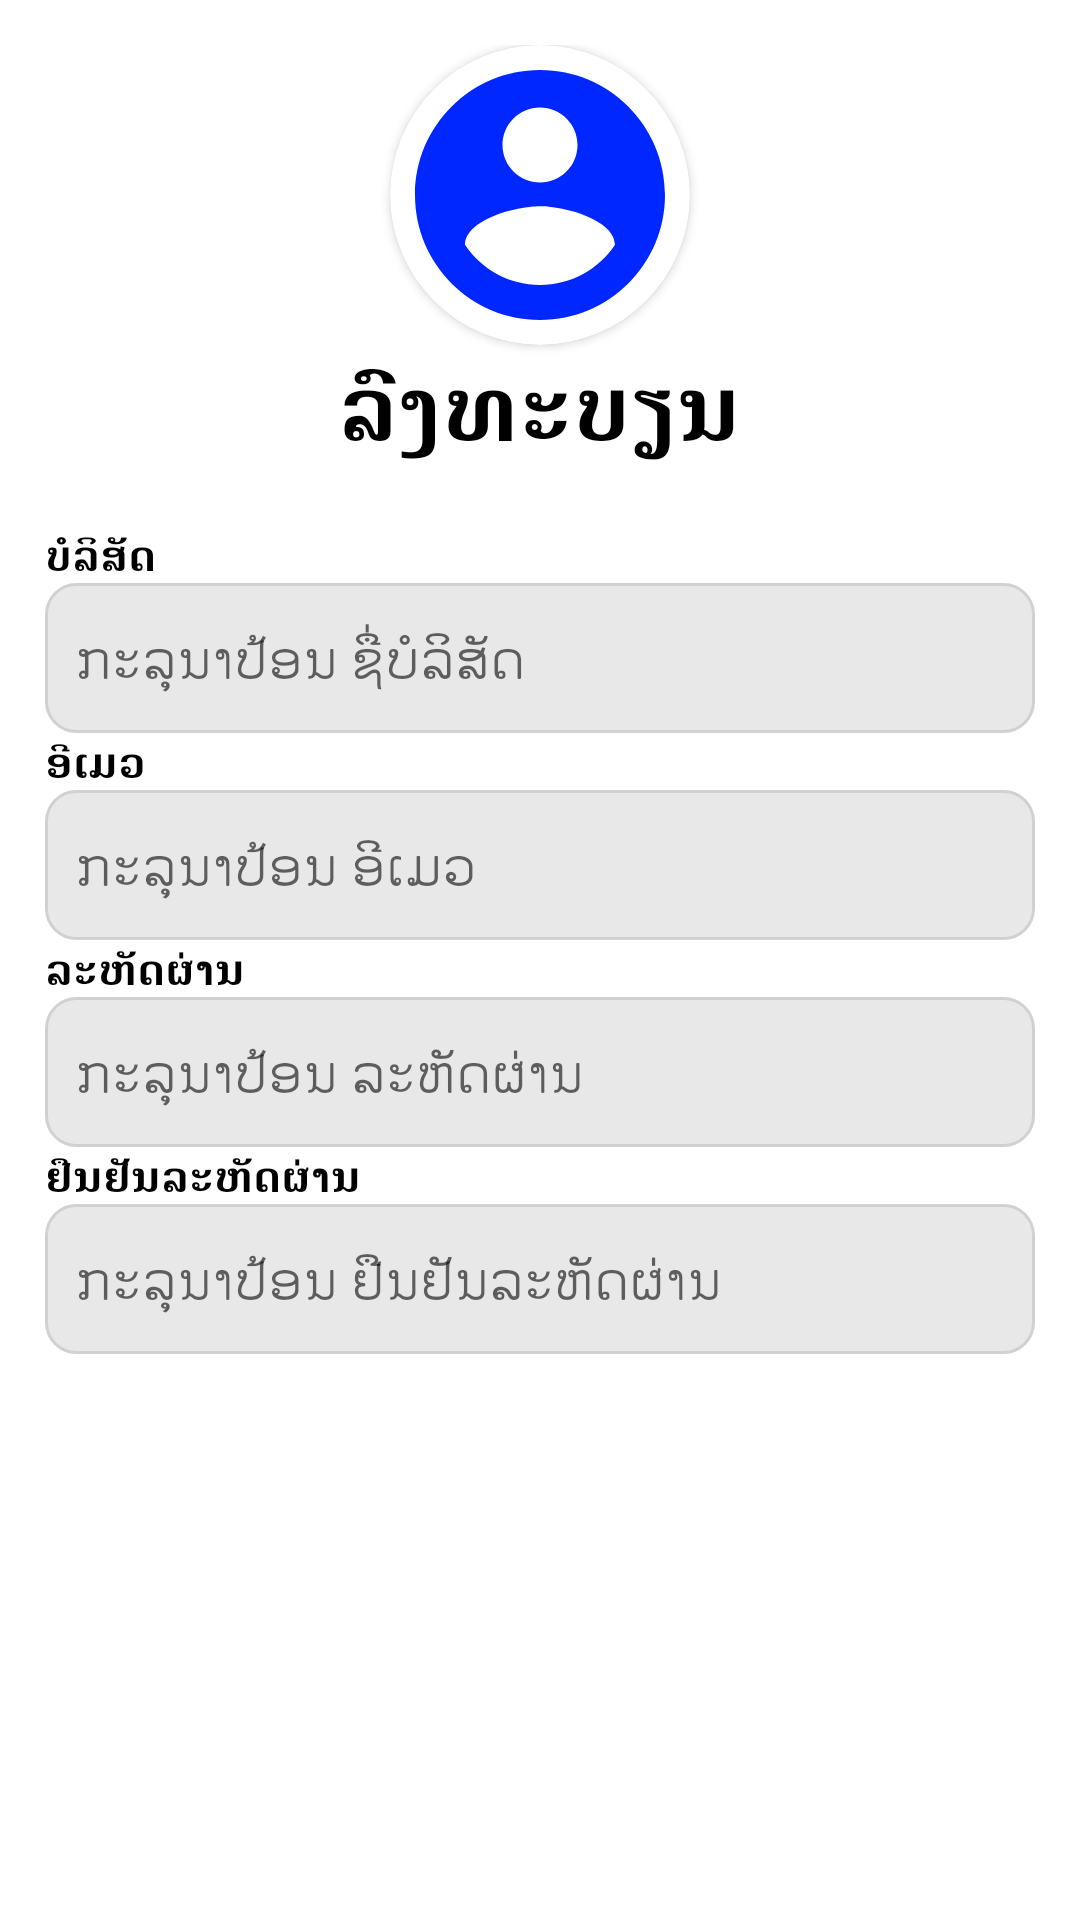

Icon bounding boxes for this 1080*1920 phone screenshot, format {"x1": x1, "y1": y1, "x2": x2, "y2": y2}:
account circle: {"x1": 409, "y1": 70, "x2": 671, "y2": 345}
